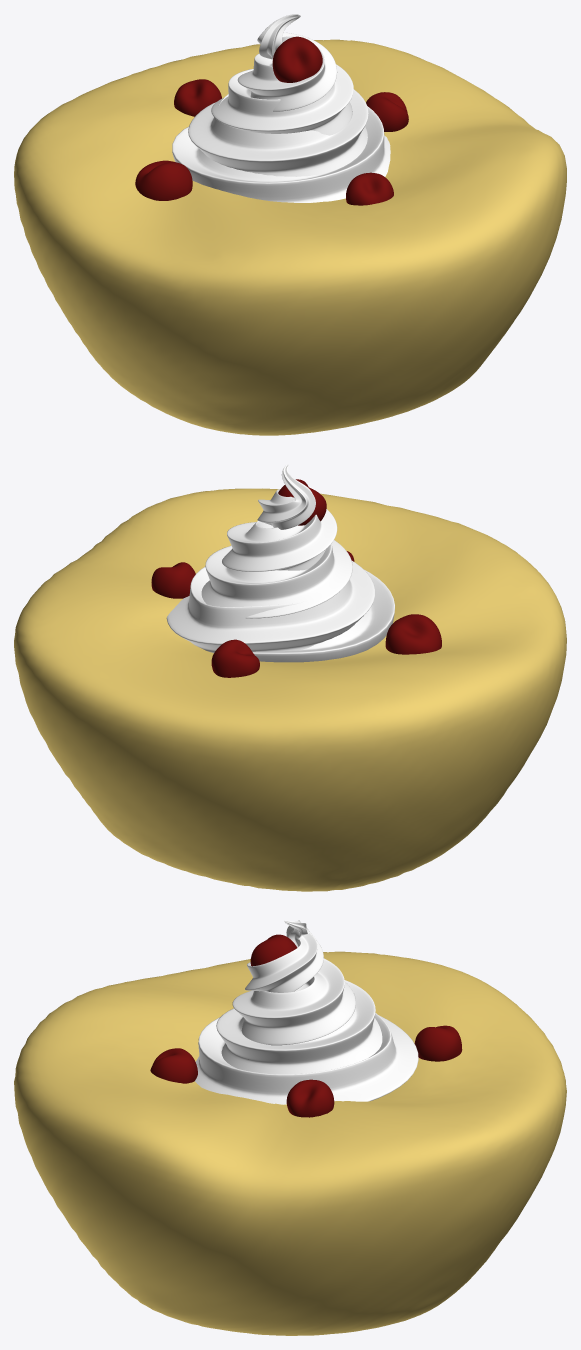
The picture shows the model from 3 angles, top to bottom: view 1: azimuth 30°, elevation 25°; view 2: azimuth 150°, elevation 25°; view 3: azimuth 270°, elevation 25°; orthographic projection.
Parts seen in each view (by area): view 1: Roundcube, Spiral, Roundcube.006; view 2: Roundcube, Spiral, Roundcube.006; view 3: Roundcube, Spiral, Roundcube.006.
Boxes of the visible parts, <box> form: Roundcube: <box>14,39,566,435</box>; Spiral: <box>172,14,390,202</box>; Roundcube.006: <box>135,36,408,205</box>; Roundcube: <box>14,488,566,891</box>; Spiral: <box>166,464,394,662</box>; Roundcube.006: <box>151,479,441,677</box>; Roundcube: <box>14,951,566,1335</box>; Spiral: <box>195,920,418,1104</box>; Roundcube.006: <box>150,934,462,1117</box>.
Size of what is drawn, in the model's own units: 368 by 275 by 374.
